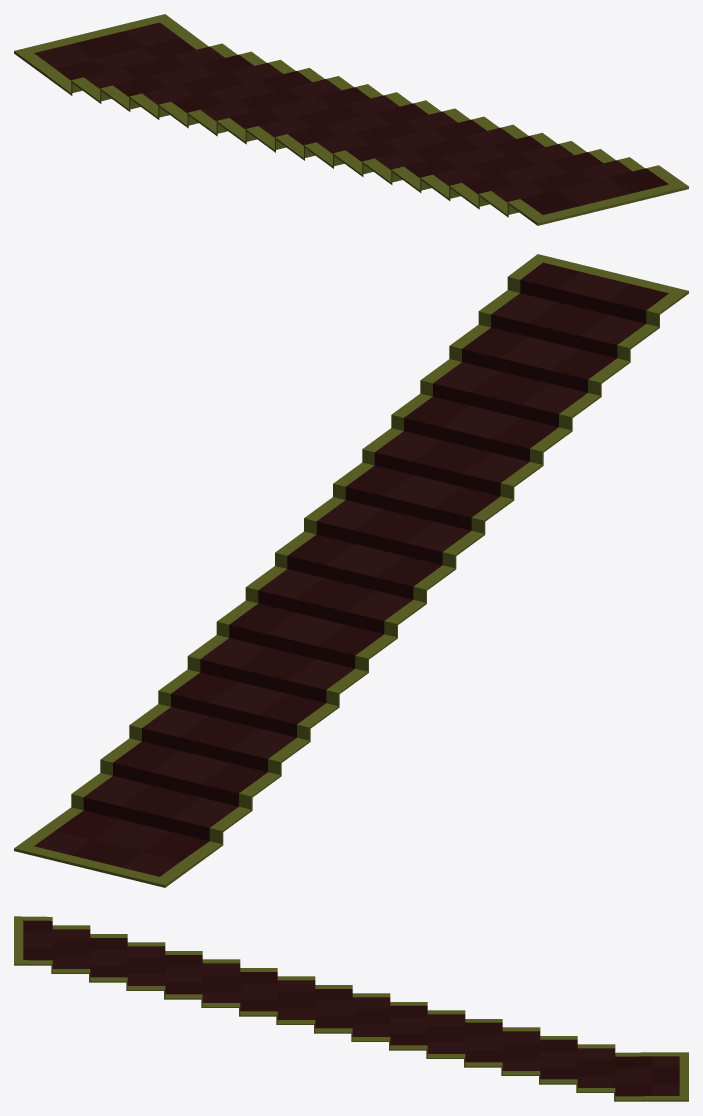
Rendered from Theat Carp Main 2.FBX.
3 renders of one model, top to bottom at view 1: azimuth 30°, elevation 25°; view 2: azimuth 150°, elevation 25°; view 3: azimuth 270°, elevation 25°, orthographic. The views are drawn at different scales.
Visible parts, largest first — view 1: Carpet Main Stairs; view 2: Carpet Main Stairs; view 3: Carpet Main Stairs.
Boxes of the visible parts, left/top/right/bottom form: Carpet Main Stairs: left=14, top=14, right=688, bottom=225; Carpet Main Stairs: left=14, top=254, right=688, bottom=887; Carpet Main Stairs: left=14, top=916, right=688, bottom=1101.
Size of the model in its own units: 3 by 4.05 by 18.
